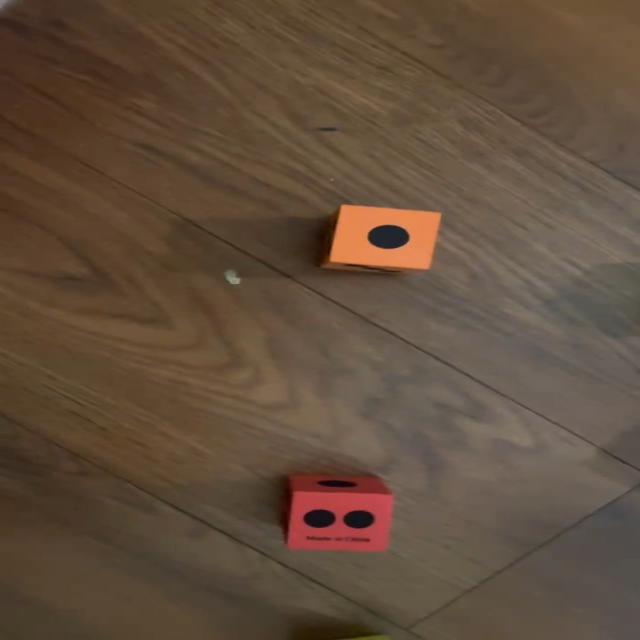red_block: (284, 474, 392, 552)
